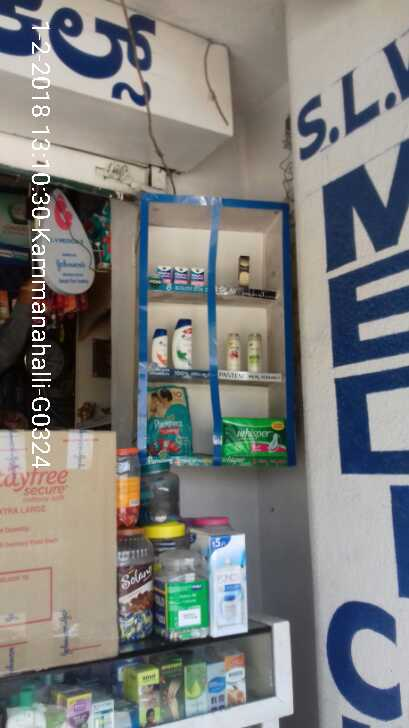beauty: (173, 320, 194, 368), (152, 327, 167, 366), (246, 334, 261, 372), (226, 331, 241, 368), (237, 255, 248, 288)
pharmacy: (145, 388, 192, 455), (224, 418, 288, 456), (173, 267, 187, 285), (189, 268, 204, 284), (157, 266, 170, 283)
